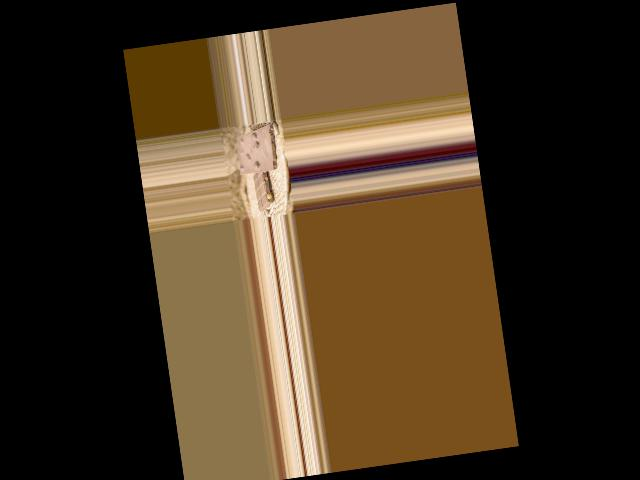chocolate: (233, 123, 279, 178)
